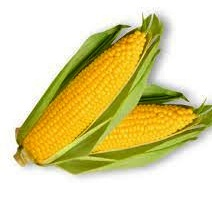corn: (16, 20, 159, 168), (57, 105, 212, 172)
